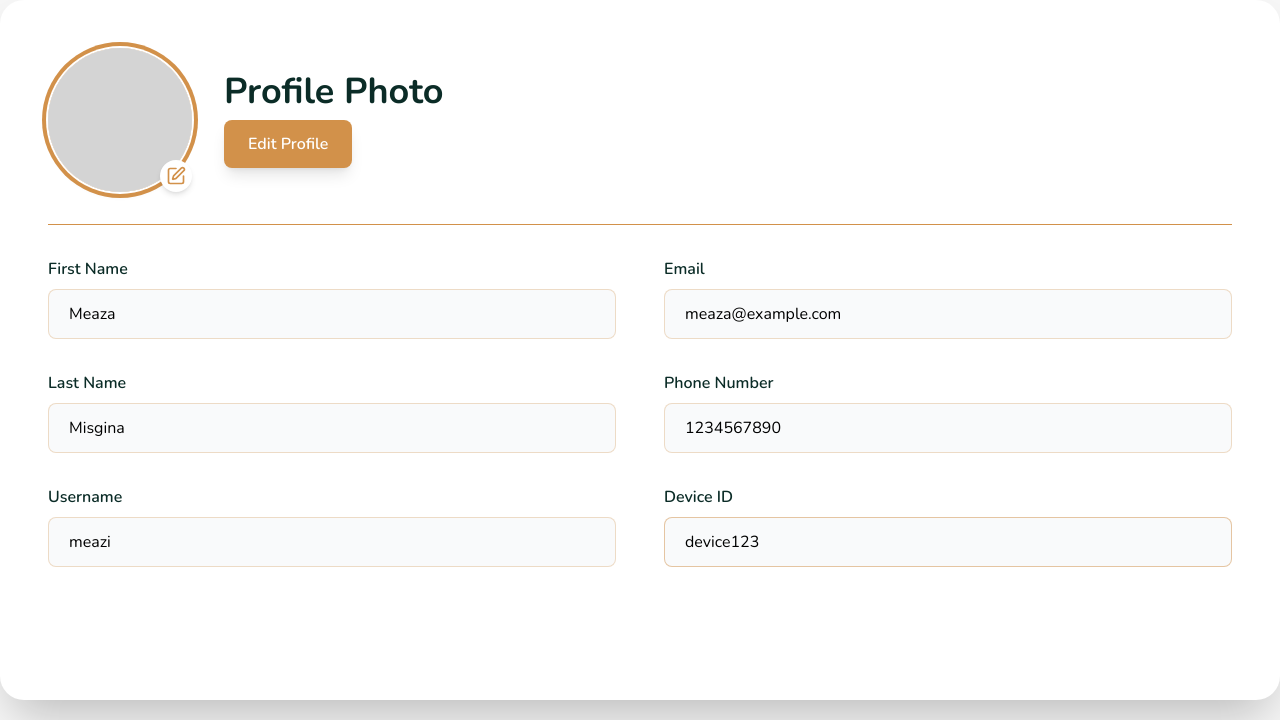
ProfileForm › shows saving state
The image size is (1280, 720).
Click the button "Edit Profile": (288,144) [224,120,352,168]
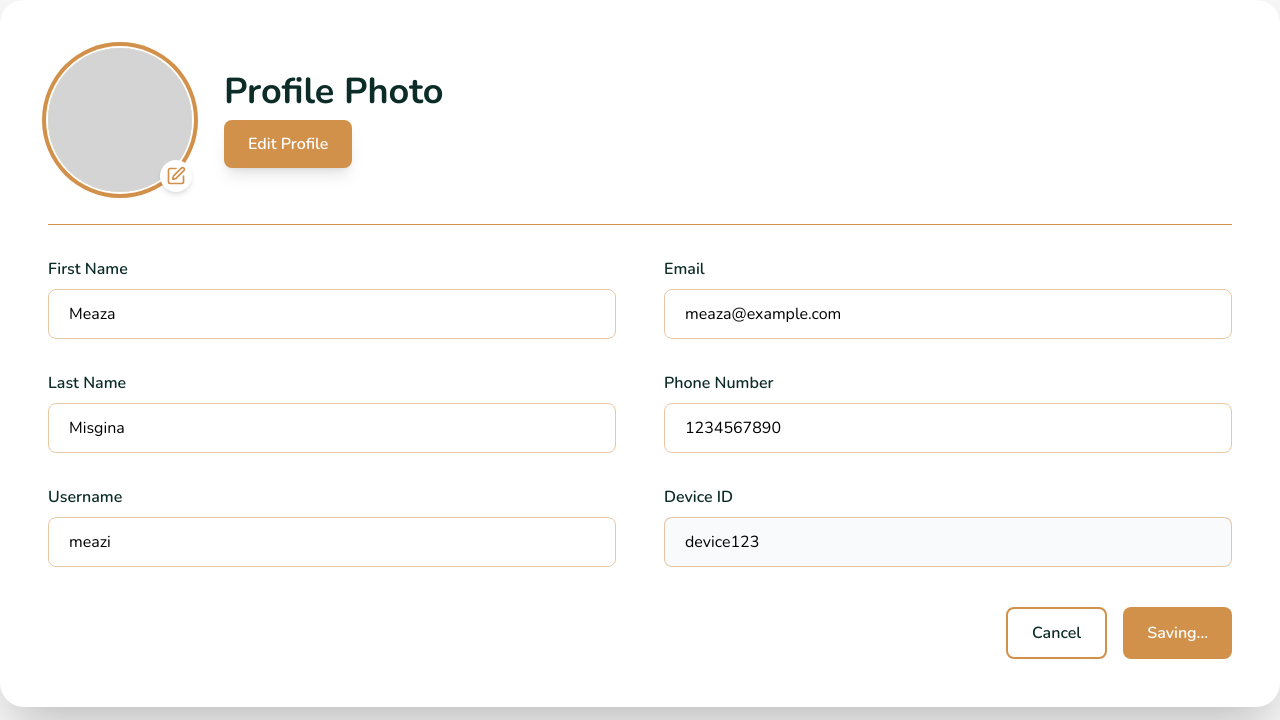
Check: the button "Saving..." is disabled, box [1123,607,1232,659]
